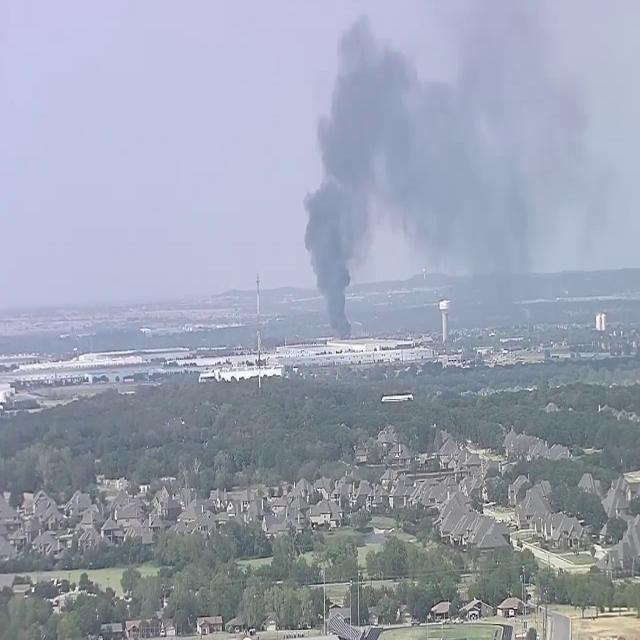Smoke: (297, 1, 626, 320)
